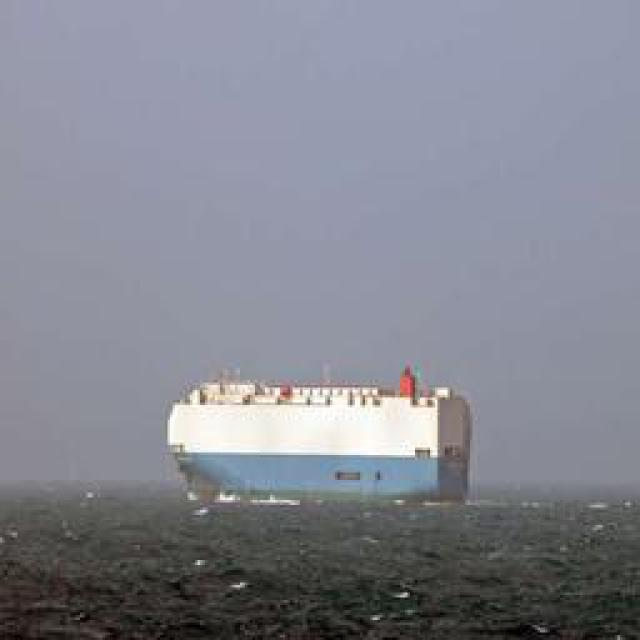Ship: (163, 374, 471, 504)
